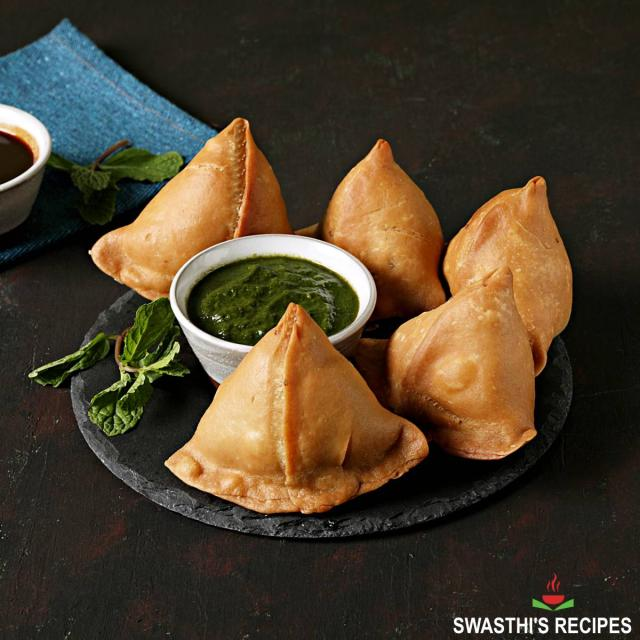SAMOSA: (165, 303, 428, 514), (90, 118, 294, 300), (386, 267, 536, 459), (443, 177, 572, 374), (318, 140, 445, 318)
